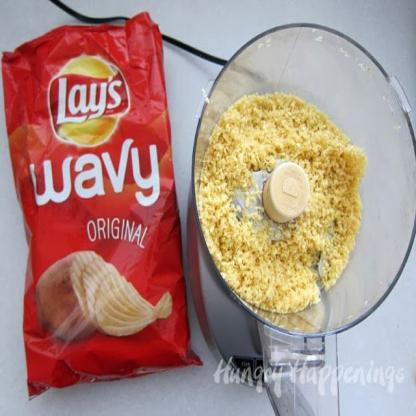potatochip: (0, 4, 208, 406)
